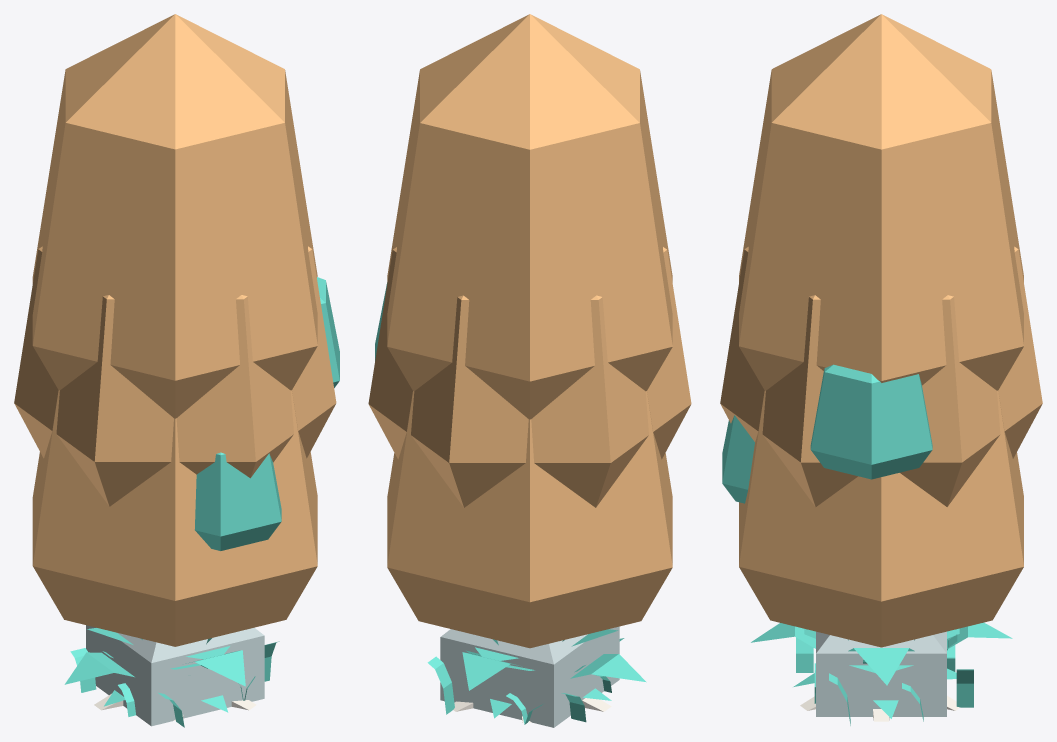
File: nature-pack.glb
The picture shows the model from 3 angles, left to right: view 1: azimuth 30°, elevation 25°; view 2: azimuth 150°, elevation 25°; view 3: azimuth 270°, elevation 25°; orthographic projection.
Visible parts, largest first — view 1: tree_default_fall, tree_fat_fall, tree_oak_fall, statue_column, tree_thin, plant_bushDetailed, grass_large; view 2: tree_default_fall, tree_fat_fall, tree_oak_fall, statue_column, plant_bushDetailed, grass_large; view 3: tree_default_fall, tree_fat_fall, tree_oak_fall, tree_thin, statue_column, plant_bushDetailed, grass_large.
Part boxes in pixels (left/top/right/bottom): tree_default_fall: left=32, top=14, right=317, bottom=418; tree_fat_fall: left=32, top=390, right=317, bottom=646; tree_oak_fall: left=14, top=246, right=336, bottom=720; statue_column: left=86, top=625, right=264, bottom=726; tree_thin: left=194, top=277, right=339, bottom=550; plant_bushDetailed: left=64, top=628, right=245, bottom=712; grass_large: left=70, top=641, right=279, bottom=727; tree_default_fall: left=387, top=14, right=672, bottom=419; tree_fat_fall: left=387, top=391, right=672, bottom=648; tree_oak_fall: left=368, top=247, right=691, bottom=722; statue_column: left=440, top=626, right=619, bottom=727; plant_bushDetailed: left=462, top=629, right=646, bottom=718; grass_large: left=427, top=638, right=624, bottom=724; tree_default_fall: left=739, top=14, right=1023, bottom=390; tree_fat_fall: left=739, top=390, right=1023, bottom=647; tree_oak_fall: left=720, top=246, right=1042, bottom=721; tree_thin: left=722, top=364, right=932, bottom=503; statue_column: left=816, top=631, right=946, bottom=716; plant_bushDetailed: left=751, top=622, right=1012, bottom=718; grass_large: left=796, top=634, right=973, bottom=725.
Size of the model in its own units: 0.8005 by 1.71 by 0.7396.
